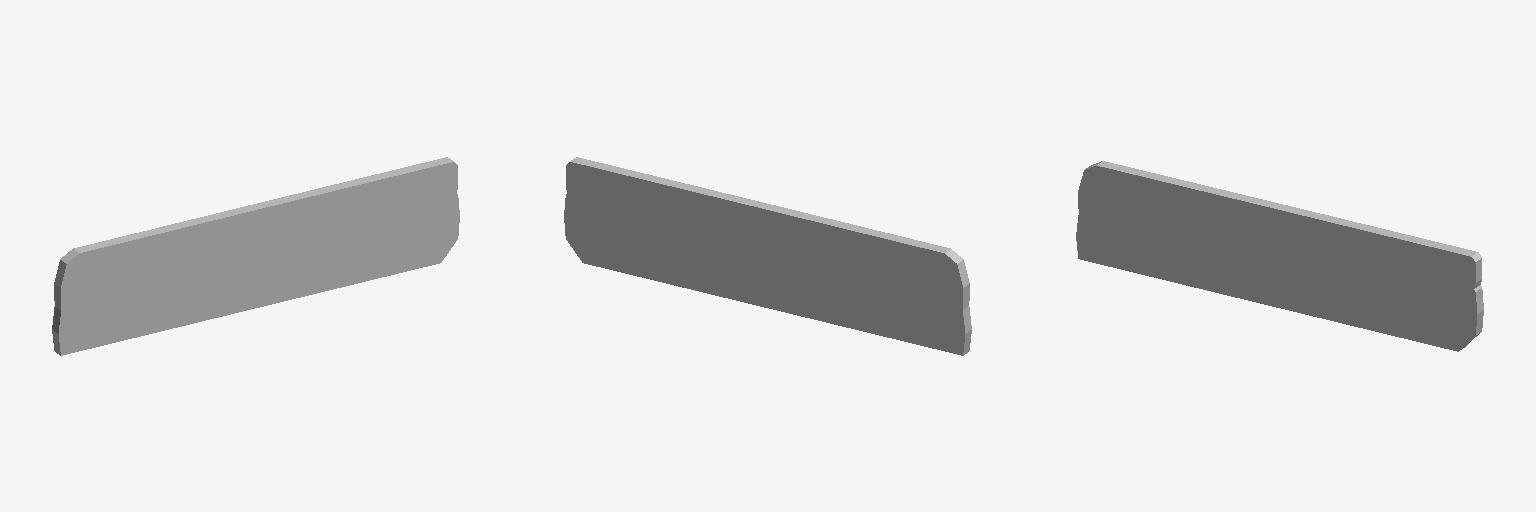
Rendered from MenuButton.obj.
The picture shows the model from 3 angles: view 1: azimuth 30°, elevation 25°; view 2: azimuth 150°, elevation 25°; view 3: azimuth 330°, elevation 25°; orthographic projection.
Parts seen in each view (by area): view 1: Object.1; view 2: Object.1; view 3: Object.1.
Part boxes in pixels (left/top/right/bottom): Object.1: left=52, top=157, right=459, bottom=355; Object.1: left=564, top=157, right=971, bottom=355; Object.1: left=1076, top=161, right=1483, bottom=351.
Bounding box in the file's own units: 27.8 × 6.51 × 0.7856.